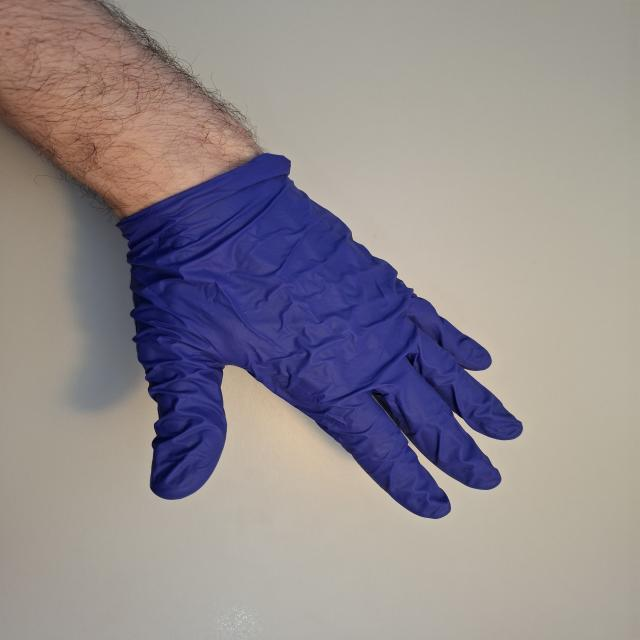glove_on: (110, 145, 526, 522)
